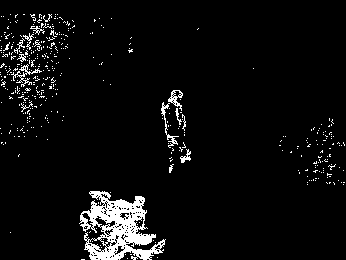person: (162, 90, 194, 167)
